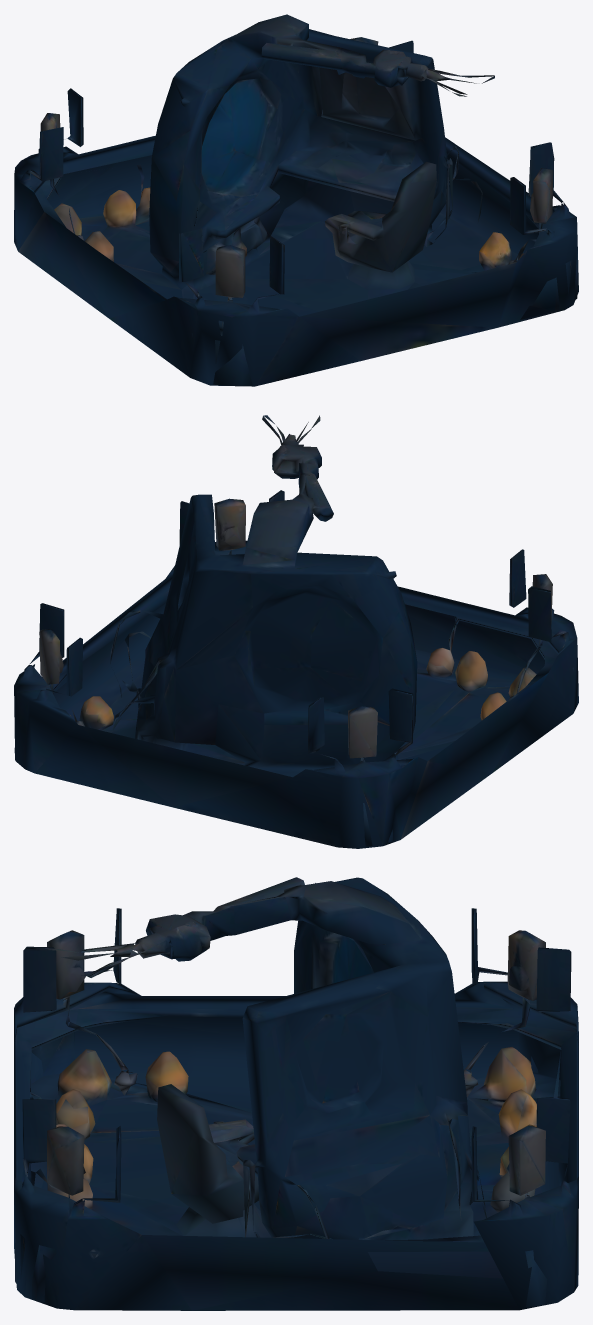
3 renders of one model, top to bottom at view 1: azimuth 30°, elevation 25°; view 2: azimuth 150°, elevation 25°; view 3: azimuth 270°, elevation 25°, orthographic. The views are drawn at different scales.
Bounding box in the file's own units: 1.9 × 1.12 × 1.9.
Materials: 1 (1 with a texture image).
